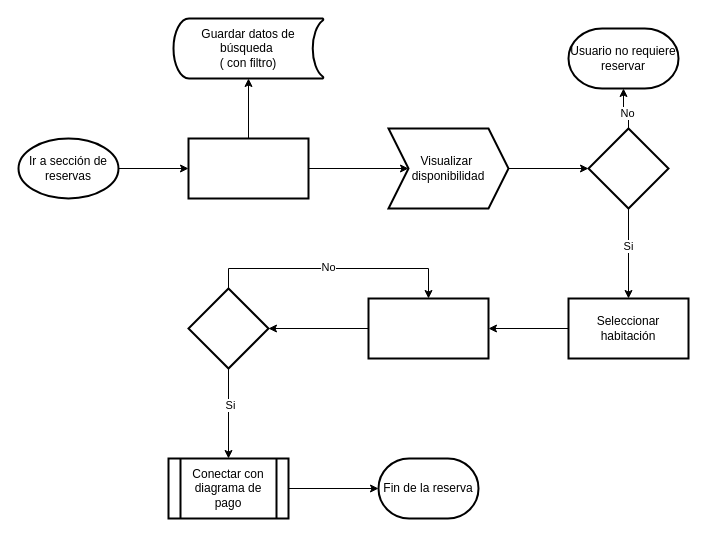
The diagram is 706 pixels wide and 536 high, and some of its shapes have lost their labels. Here are the shapes that lost their labels. From the top down, the centre of each, then its label:
the point at 248,168: Buscar hotel
the point at 628,168: ¿Realizar reserva?
the point at 228,328: ¿Confirmar reserva?
the point at 428,328: Usuario selecciona fecha y hora
